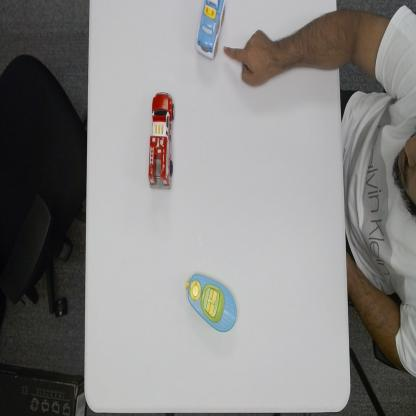Arm: (273, 17, 342, 73)
Boat: (184, 270, 238, 335)
Car: (195, 0, 226, 61)
Firetruck: (147, 89, 176, 190)
Hand: (223, 25, 275, 89)
